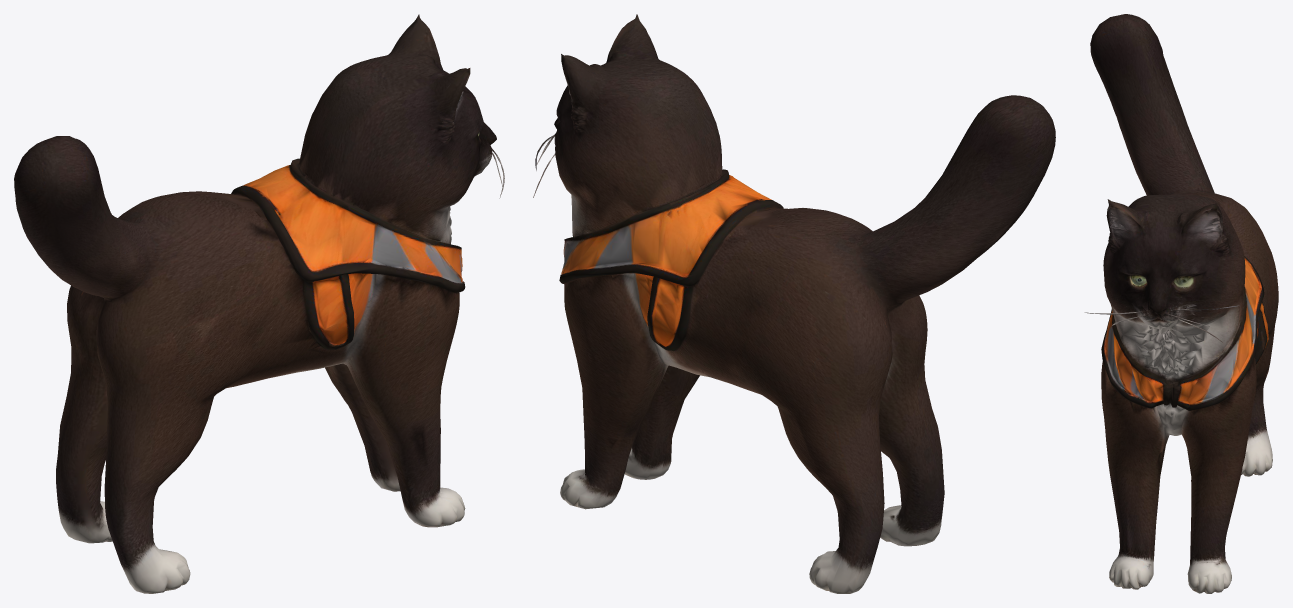
Rendered from FELIXHUD.glb.
The picture shows the model from 3 angles, left to right: view 1: azimuth 30°, elevation 25°; view 2: azimuth 150°, elevation 25°; view 3: azimuth 270°, elevation 25°; orthographic projection. The views are drawn at different scales.
Parts seen in each view (by area): view 1: material; view 2: material; view 3: material.
Boxes of the visible parts, x1,y1,x2,y2 form: material: (14,14,504,593); material: (533,14,1055,593); material: (1084,14,1278,593).
Bounding box in the file's own units: 1.08 × 0.9993 × 0.4321.
1 material, 1 textured.
